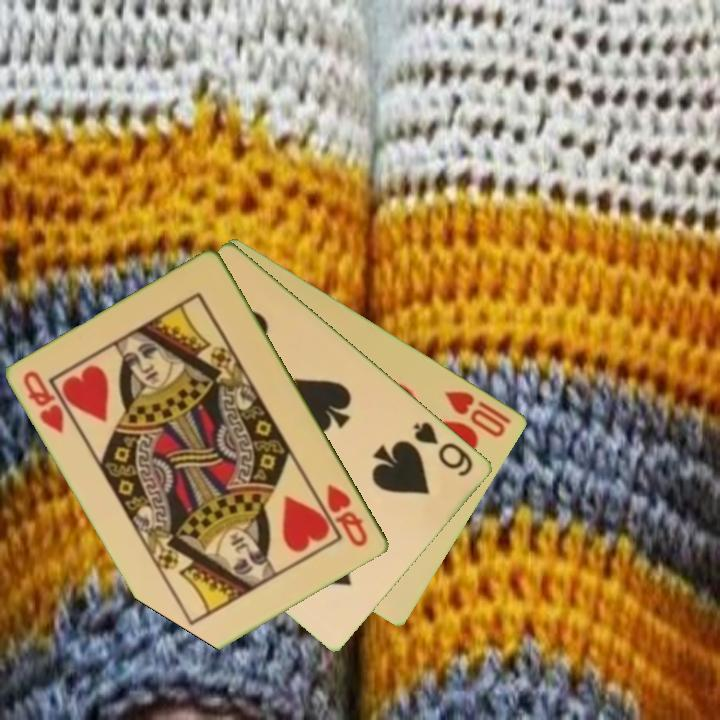10h: (441, 387, 515, 441)
6s: (410, 418, 477, 480)
Qh: (323, 480, 371, 550), (20, 367, 68, 437)
